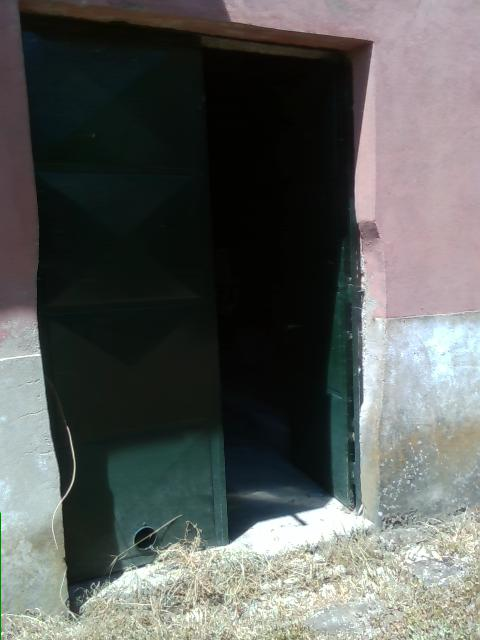open_door: (13, 1, 375, 619)
